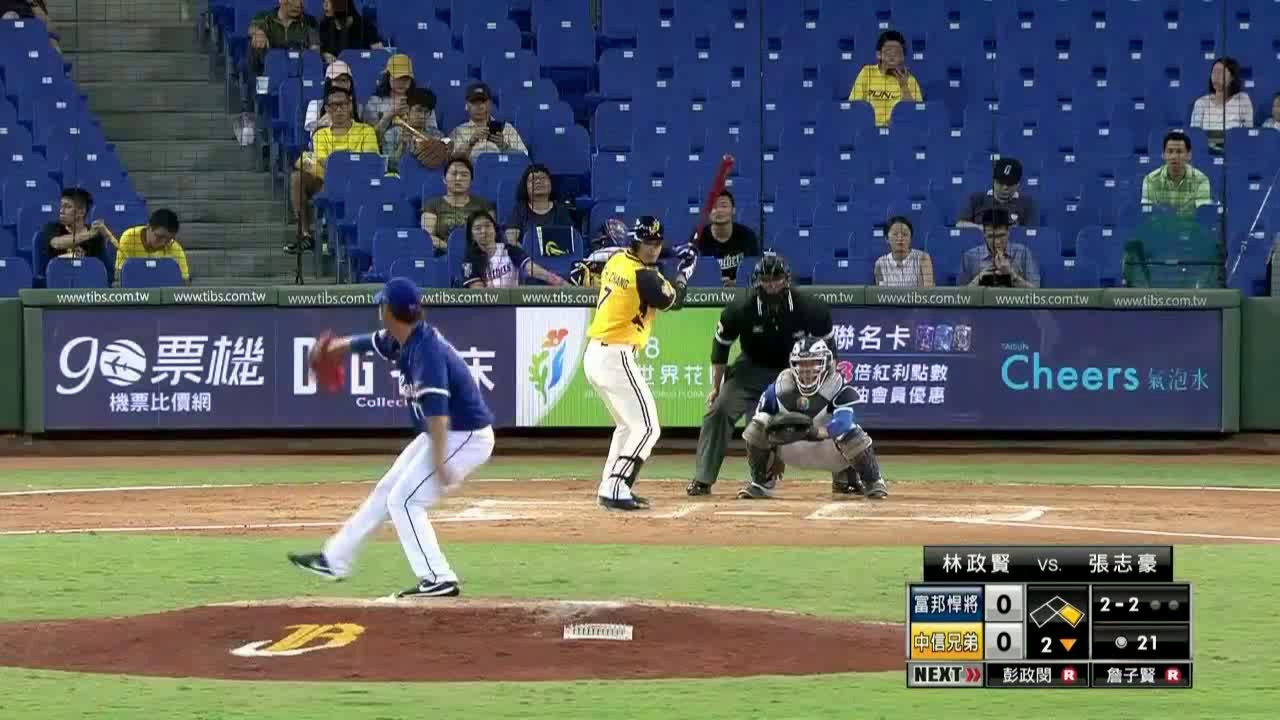ball: (441, 475, 460, 491)
base: (1028, 591, 1085, 628)
bat: (686, 151, 735, 254)
out: (1141, 589, 1186, 622)
score1: (987, 587, 1020, 620)
score2: (988, 625, 1019, 656)
session: (1029, 629, 1085, 658)
strikeball: (1094, 588, 1143, 622)
total: (1094, 630, 1185, 655)
